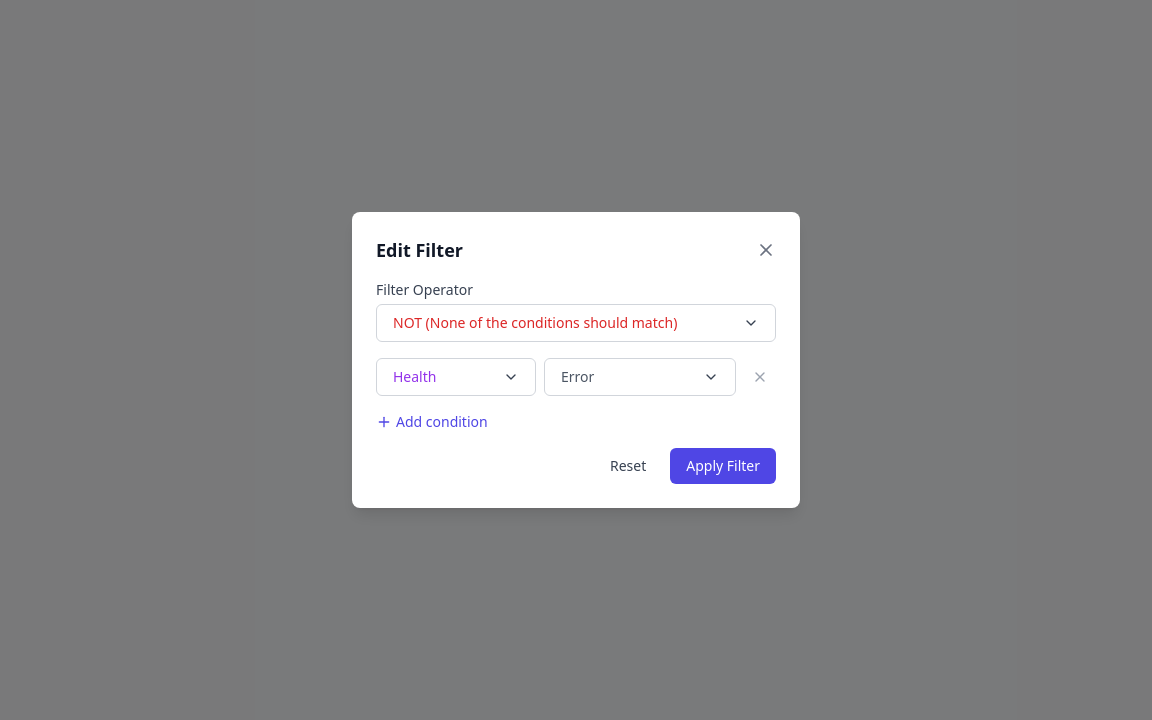
Test: ServiceFilterDialog › should reset to initial values when editing and Reset is clicked
# Change operator to AND
Click the button "NOT (None of the conditions should match)".
click(576, 323)  # box top-left (376, 304), bottom-right (776, 342)
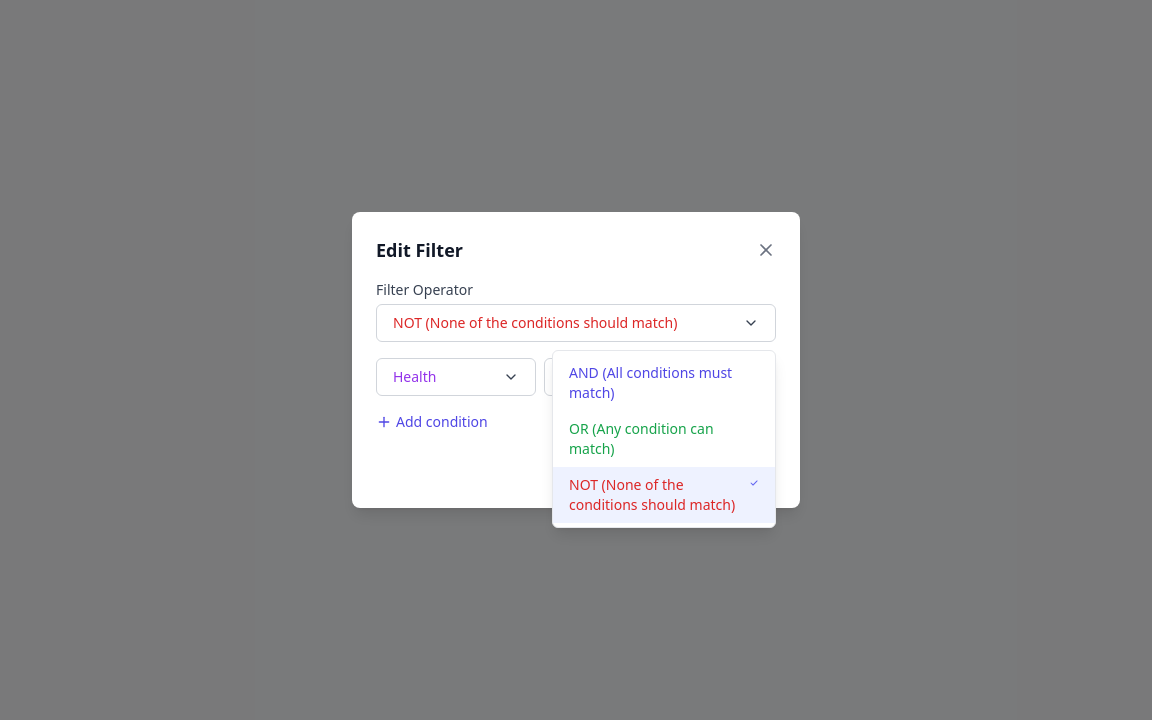
Click the menu item with test id "dropdown-option-AND".
click(664, 383)  # box top-left (553, 355), bottom-right (775, 411)
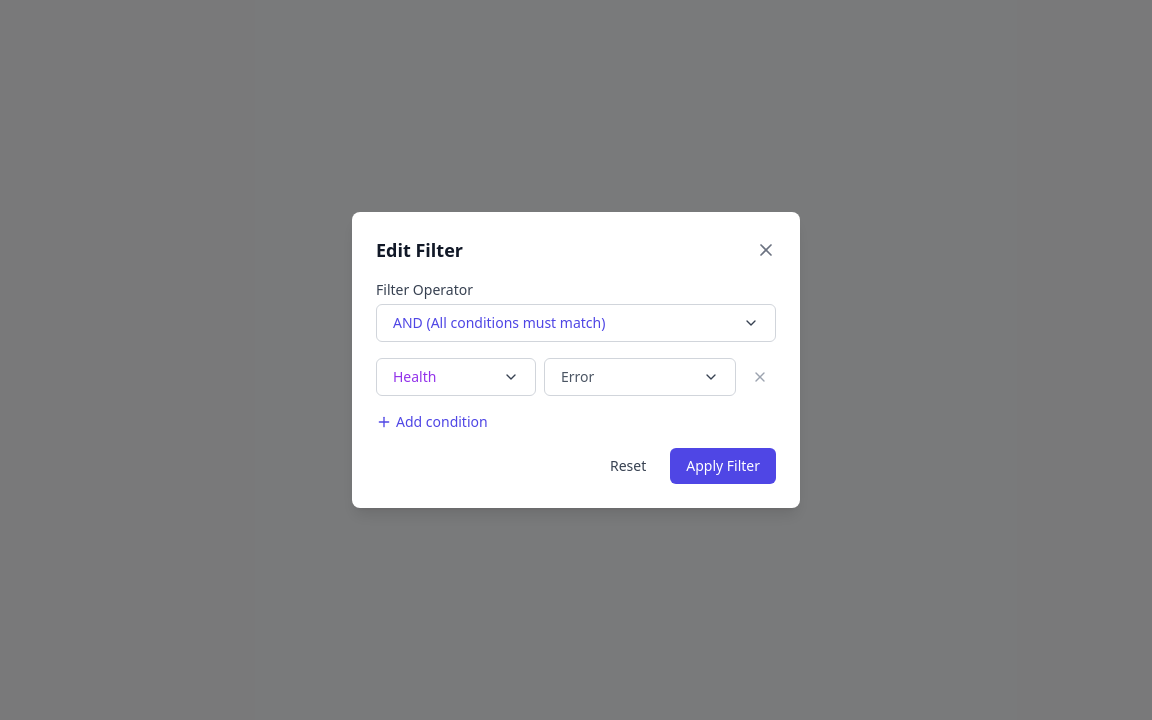
# Click reset button
Click the button "Reset".
click(628, 466)  # box top-left (594, 448), bottom-right (662, 484)
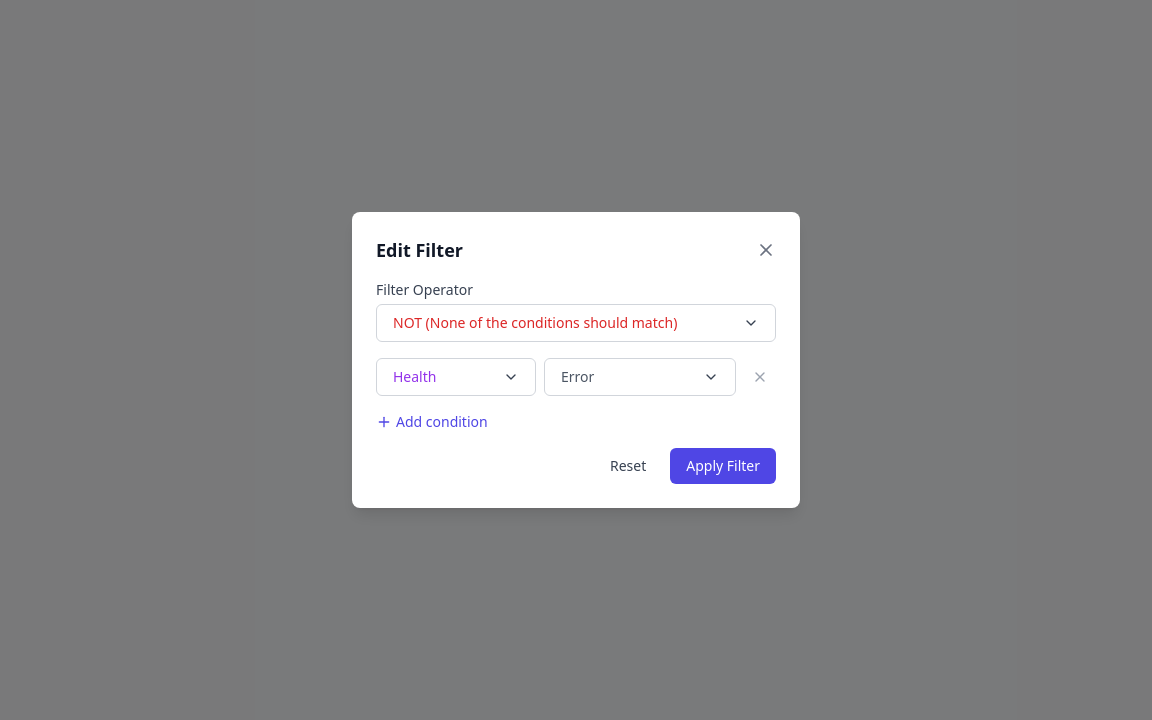
Expected: the button "NOT (None of the conditions should match)" is shown, top-left (376, 304), bottom-right (776, 342)
